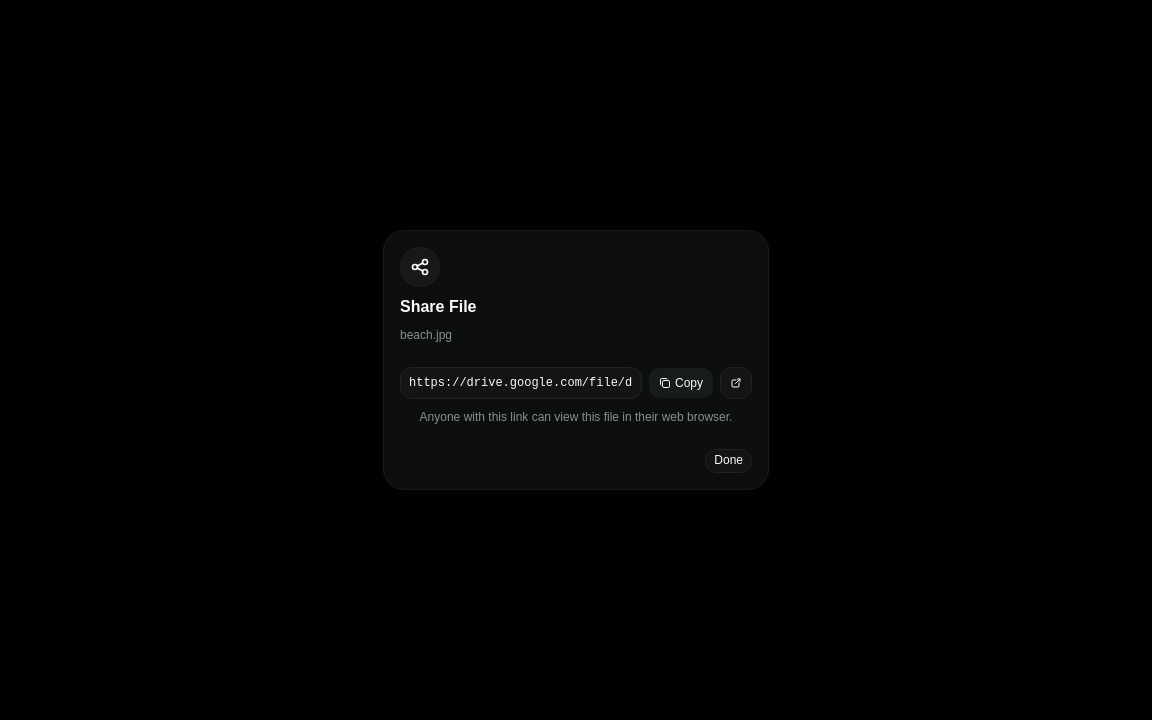
it: ShareLinkModal › copies link to clipboard with feedback
What coordinates should you click on to do the following:
click the button "Copy"
I would click on:
 (681, 383)
Its box is left=648, top=367, right=714, bottom=399.
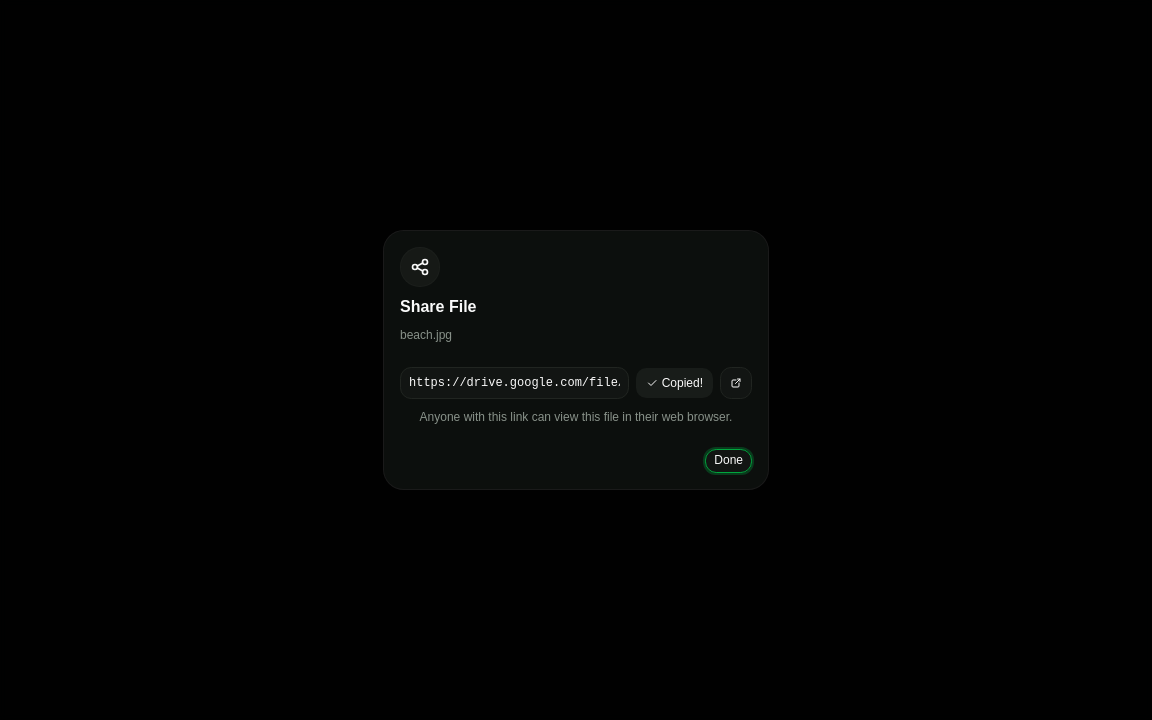
Expected: the text "Copied!" is shown, left=662, top=375, right=703, bottom=391
